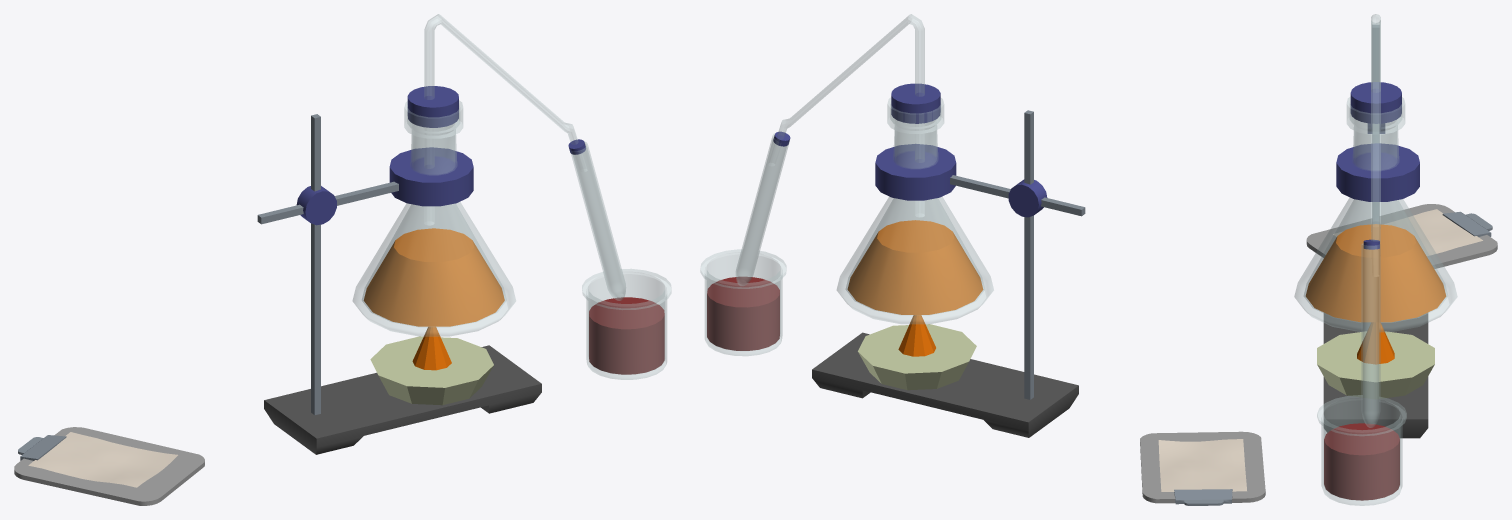
The model's file is materiel_ilot_06.fbx.
3 views of the same model, side by side, from view 1: azimuth 30°, elevation 25°; view 2: azimuth 150°, elevation 25°; view 3: azimuth 270°, elevation 25° (orthographic). The views are drawn at different scales.
Visible parts, largest first — view 1: materiel_ilot_06; view 2: materiel_ilot_06; view 3: materiel_ilot_06.
Boxes of the visible parts, box(x1,y1,x2,y2) form: materiel_ilot_06: box(14, 14, 671, 505); materiel_ilot_06: box(700, 14, 1265, 505); materiel_ilot_06: box(1294, 14, 1497, 505).
Size of the model in its own units: 236 by 143 by 67.85.
